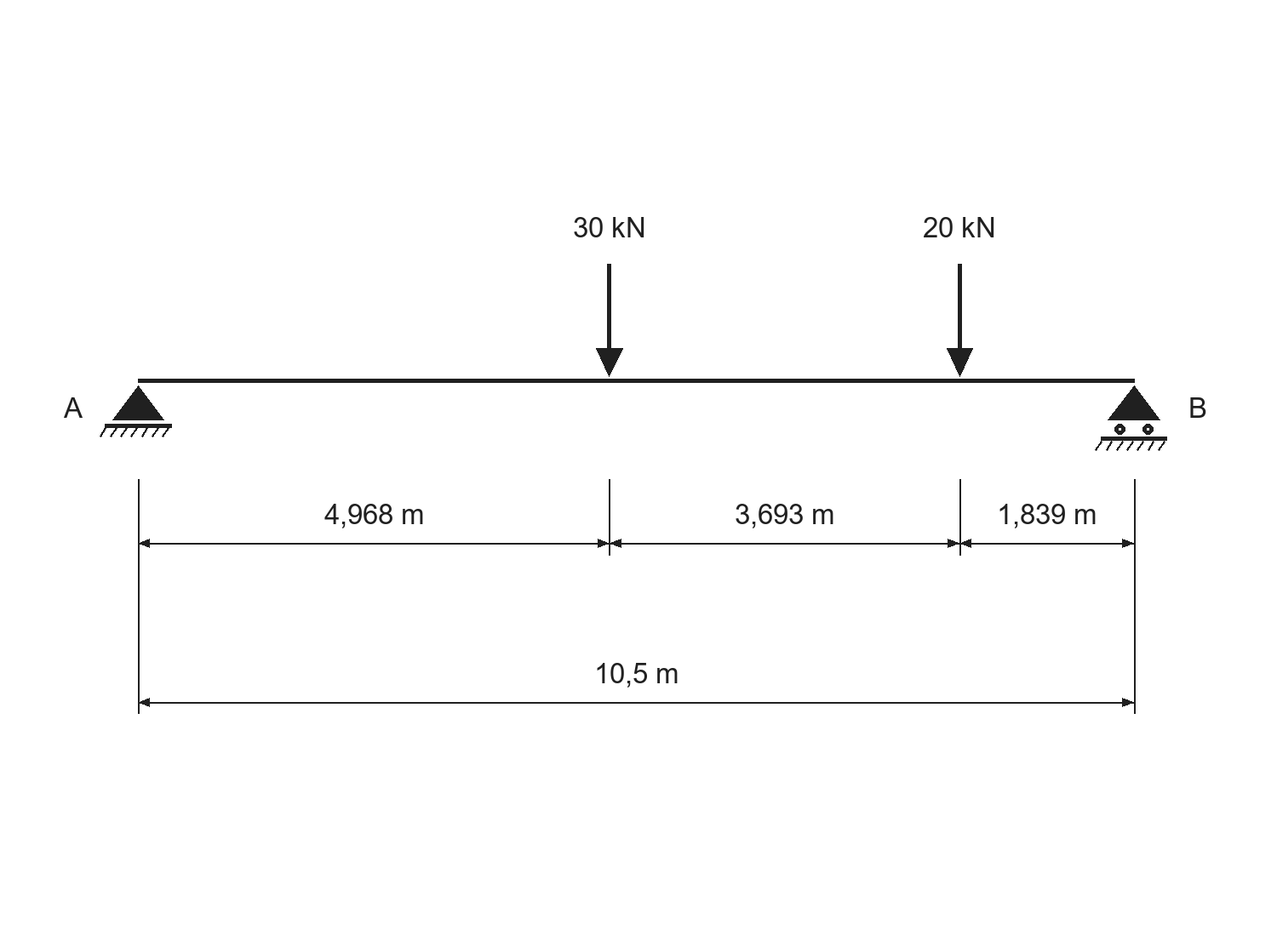pin_support: (100, 385, 172, 437)
point_load: (596, 264, 623, 377), (947, 264, 973, 377)
roller_support: (1095, 385, 1167, 451)
